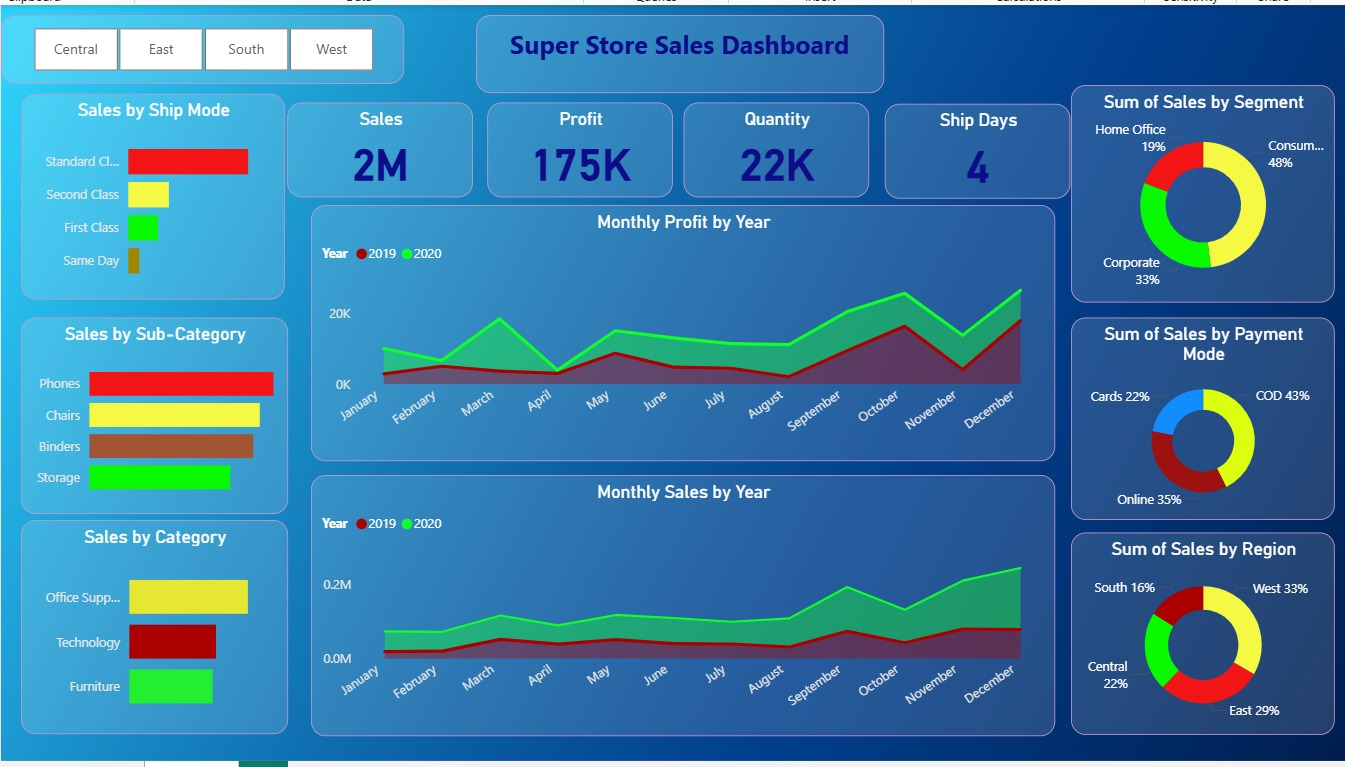

Layout of this report page (visuals, bound fields, positions):
{"tool":"powerbi","page":{"name":"Page 1","canvas":[1280,720],"ordinal":0},"visuals":[{"type":"clusteredBarChart","title":" Sales by Category","fields":{"Category":["SuperStore_Sales_Dataset.Category"],"Y":["Sum(SuperStore_Sales_Dataset.Sales)"]},"box":[18.6,490,254.3,204.3],"z":0},{"type":"clusteredBarChart","title":" Sales by Sub-Category","fields":{"Category":["SuperStore_Sales_Dataset.Sub-Category"],"Y":["Sum(SuperStore_Sales_Dataset.Sales)"]},"box":[18.6,297.1,254.3,187.1],"z":1000},{"type":"clusteredBarChart","title":" Sales by Ship Mode","fields":{"Category":["SuperStore_Sales_Dataset.Ship Mode"],"Y":["Sum(SuperStore_Sales_Dataset.Sales)"]},"box":[18.6,84.3,251.4,195.7],"z":2000},{"type":"stackedAreaChart","title":"Monthly Sales by Year","fields":{"Y":["Sum(SuperStore_Sales_Dataset.Sales)"],"Category":["SuperStore_Sales_Dataset.Order Date.Variation.Date Hierarchy.Month"],"Series":["SuperStore_Sales_Dataset.Order Date.Variation.Date Hierarchy.Year"]},"box":[295.7,447.1,708.6,248.6],"z":3000},{"type":"stackedAreaChart","title":"Monthly Profit by Year","fields":{"Category":["SuperStore_Sales_Dataset.Order Date.Variation.Date Hierarchy.Month"],"Series":["SuperStore_Sales_Dataset.Order Date.Variation.Date Hierarchy.Year"],"Y":["Sum(SuperStore_Sales_Dataset.Profit)"]},"box":[295.7,190,708.6,244.3],"z":4000},{"type":"donutChart","fields":{"Category":["SuperStore_Sales_Dataset.Segment"],"Y":["Sum(SuperStore_Sales_Dataset.Sales)"]},"box":[1018.6,75.7,251.4,207.1],"z":5000},{"type":"slicer","fields":{"Values":["SuperStore_Sales_Dataset.Region"]},"box":[0,10,384.3,65.7],"z":6000},{"type":"textbox","box":[452.9,10,388.6,74.3],"z":7000},{"type":"donutChart","fields":{"Category":["SuperStore_Sales_Dataset.Payment Mode"],"Y":["Sum(SuperStore_Sales_Dataset.Sales)"]},"box":[1018.6,297.1,251.4,192.9],"z":8000},{"type":"card","title":"Profit","fields":{"Values":["Sum(SuperStore_Sales_Dataset.Profit)"]},"box":[462.9,92.9,177.1,90],"z":9000},{"type":"card","title":"Sales","fields":{"Values":["Sum(SuperStore_Sales_Dataset.Sales)"]},"box":[272.9,92.9,177.1,90],"z":10000},{"type":"donutChart","fields":{"Category":["SuperStore_Sales_Dataset.Region"],"Y":["Sum(SuperStore_Sales_Dataset.Sales)"]},"box":[1018.6,502.9,251.4,192.9],"z":11000},{"type":"card","title":"Ship Days","fields":{"Values":["Avg(SuperStore_Sales_Dataset.AvgDelivery)"]},"box":[841.4,94.3,177.1,90],"z":12000},{"type":"card","title":"Quantity","fields":{"Values":["Sum(SuperStore_Sales_Dataset.Quantity)"]},"box":[650,92.9,177.1,90],"z":13000}]}

Visuals, with their boxes on the page's 1280x720 design canvas (x1, y1, x2, y2). These are canvas units, not pixel positions in the 1345x767 screenshot, which may show the page scaled, cropped or inside an application window:
" Sales by Category" clusteredBarChart: bbox=[19, 490, 273, 694]
" Sales by Sub-Category" clusteredBarChart: bbox=[19, 297, 273, 484]
" Sales by Ship Mode" clusteredBarChart: bbox=[19, 84, 270, 280]
"Monthly Sales by Year" stackedAreaChart: bbox=[296, 447, 1004, 696]
"Monthly Profit by Year" stackedAreaChart: bbox=[296, 190, 1004, 434]
donutChart - SuperStore_Sales_Dataset.Segment x Sum(SuperStore_Sales_Dataset.Sales): bbox=[1019, 76, 1270, 283]
slicer - SuperStore_Sales_Dataset.Region: bbox=[0, 10, 384, 76]
textbox: bbox=[453, 10, 842, 84]
donutChart - SuperStore_Sales_Dataset.Payment Mode x Sum(SuperStore_Sales_Dataset.Sales): bbox=[1019, 297, 1270, 490]
"Profit" card: bbox=[463, 93, 640, 183]
"Sales" card: bbox=[273, 93, 450, 183]
donutChart - SuperStore_Sales_Dataset.Region x Sum(SuperStore_Sales_Dataset.Sales): bbox=[1019, 503, 1270, 696]
"Ship Days" card: bbox=[841, 94, 1018, 184]
"Quantity" card: bbox=[650, 93, 827, 183]
